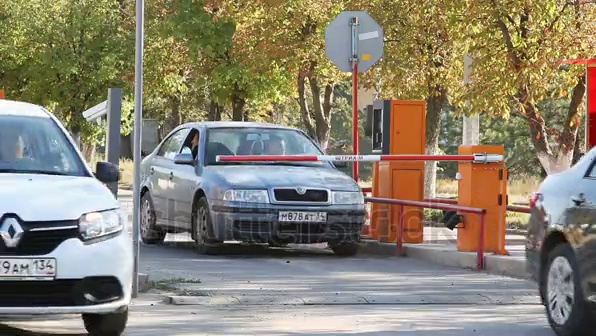licenseplate: (3, 261, 65, 279), (274, 206, 329, 225)
